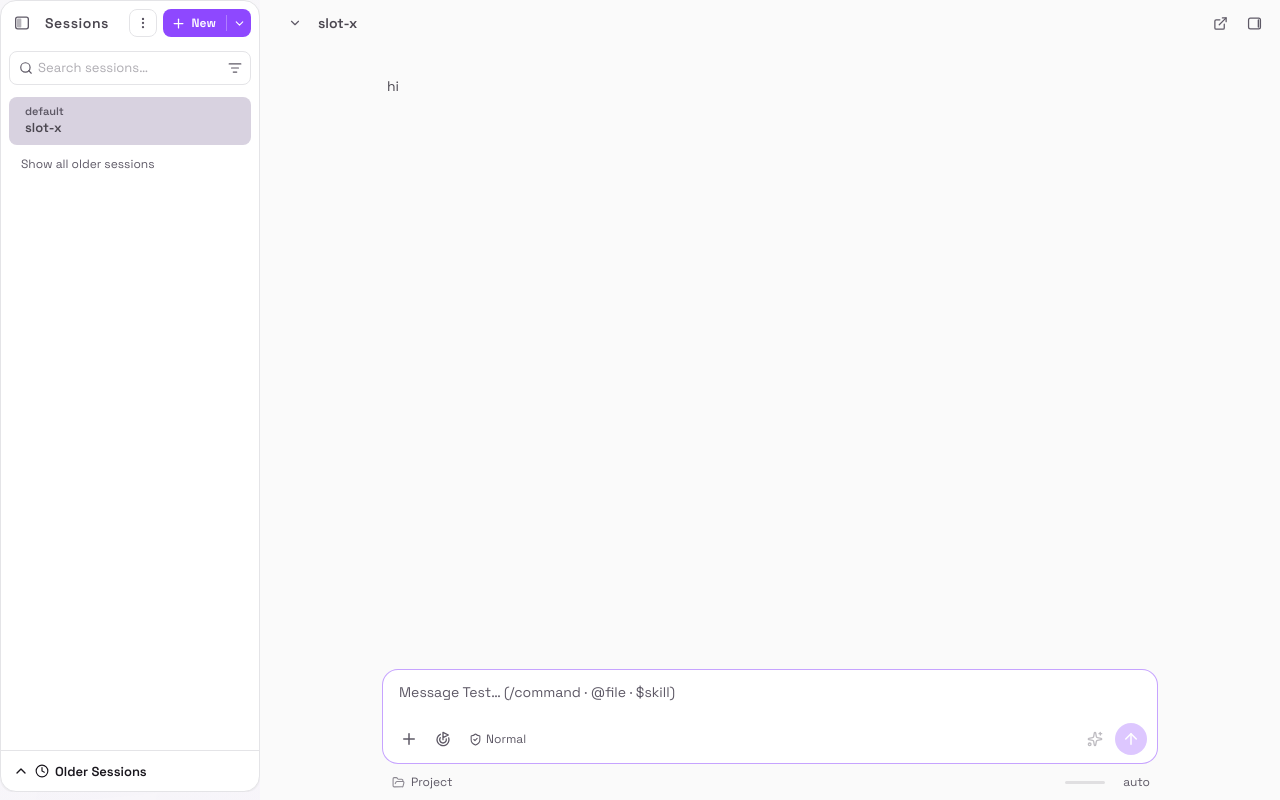
Test: ChatPage draft persistence › persists draft to localStorage on every keystroke
Type "live" into the text box named "Message input" at (770, 692), box top-left (383, 670), bottom-right (1157, 714)
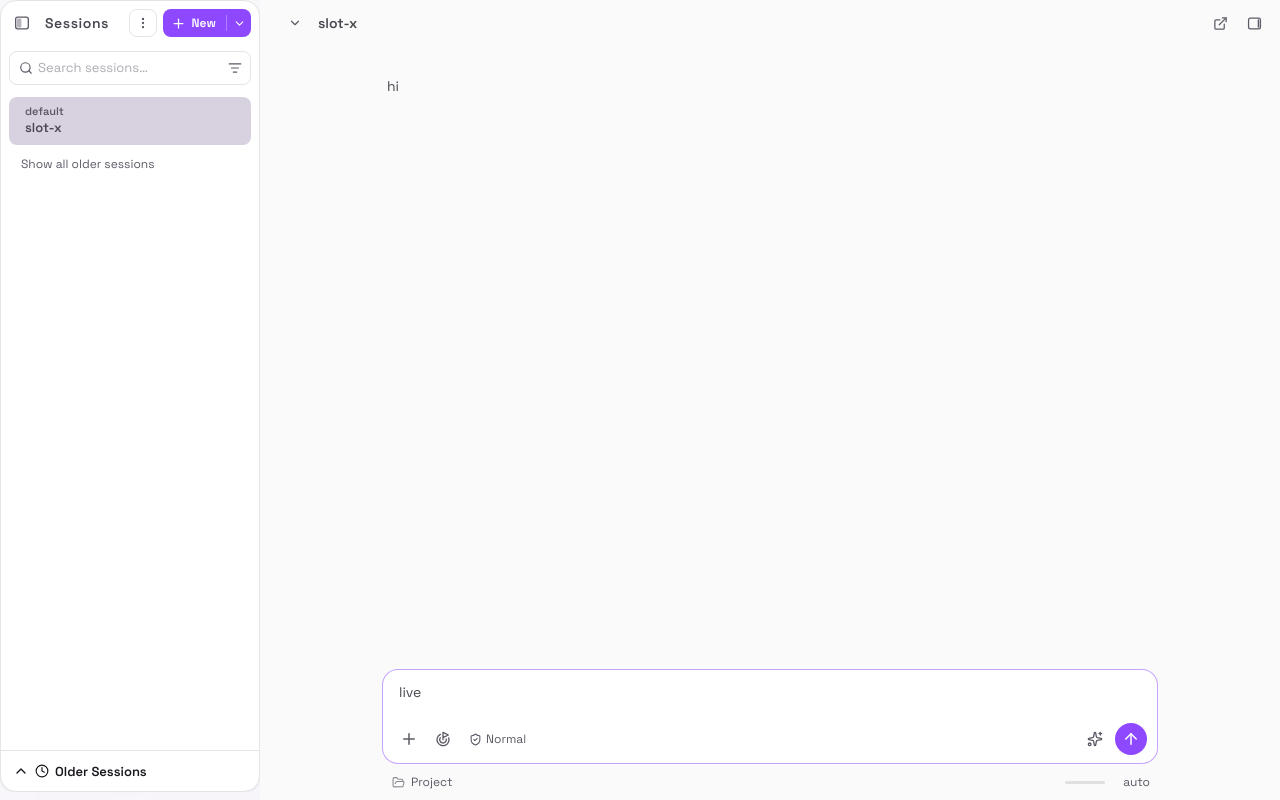
Check: the text "live" is shown, box top-left (399, 683), bottom-right (421, 701)
